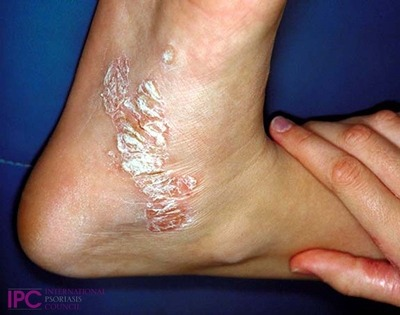Psoriasis: (94, 43, 206, 246)
